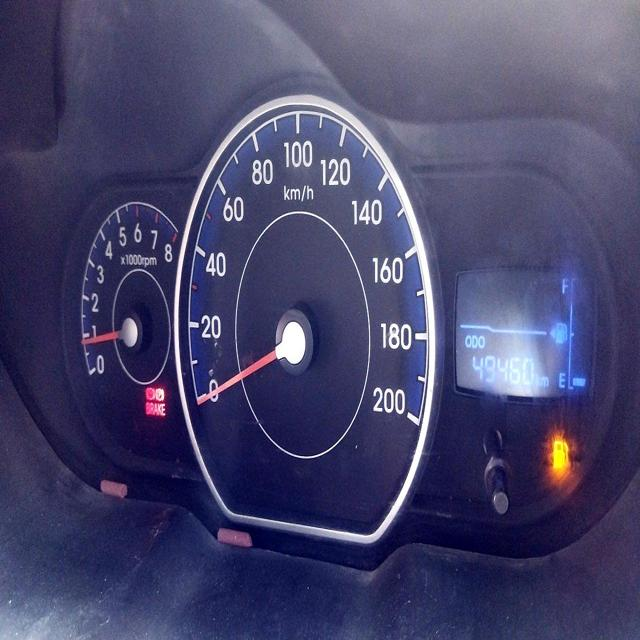odometer: (469, 353, 536, 392)
